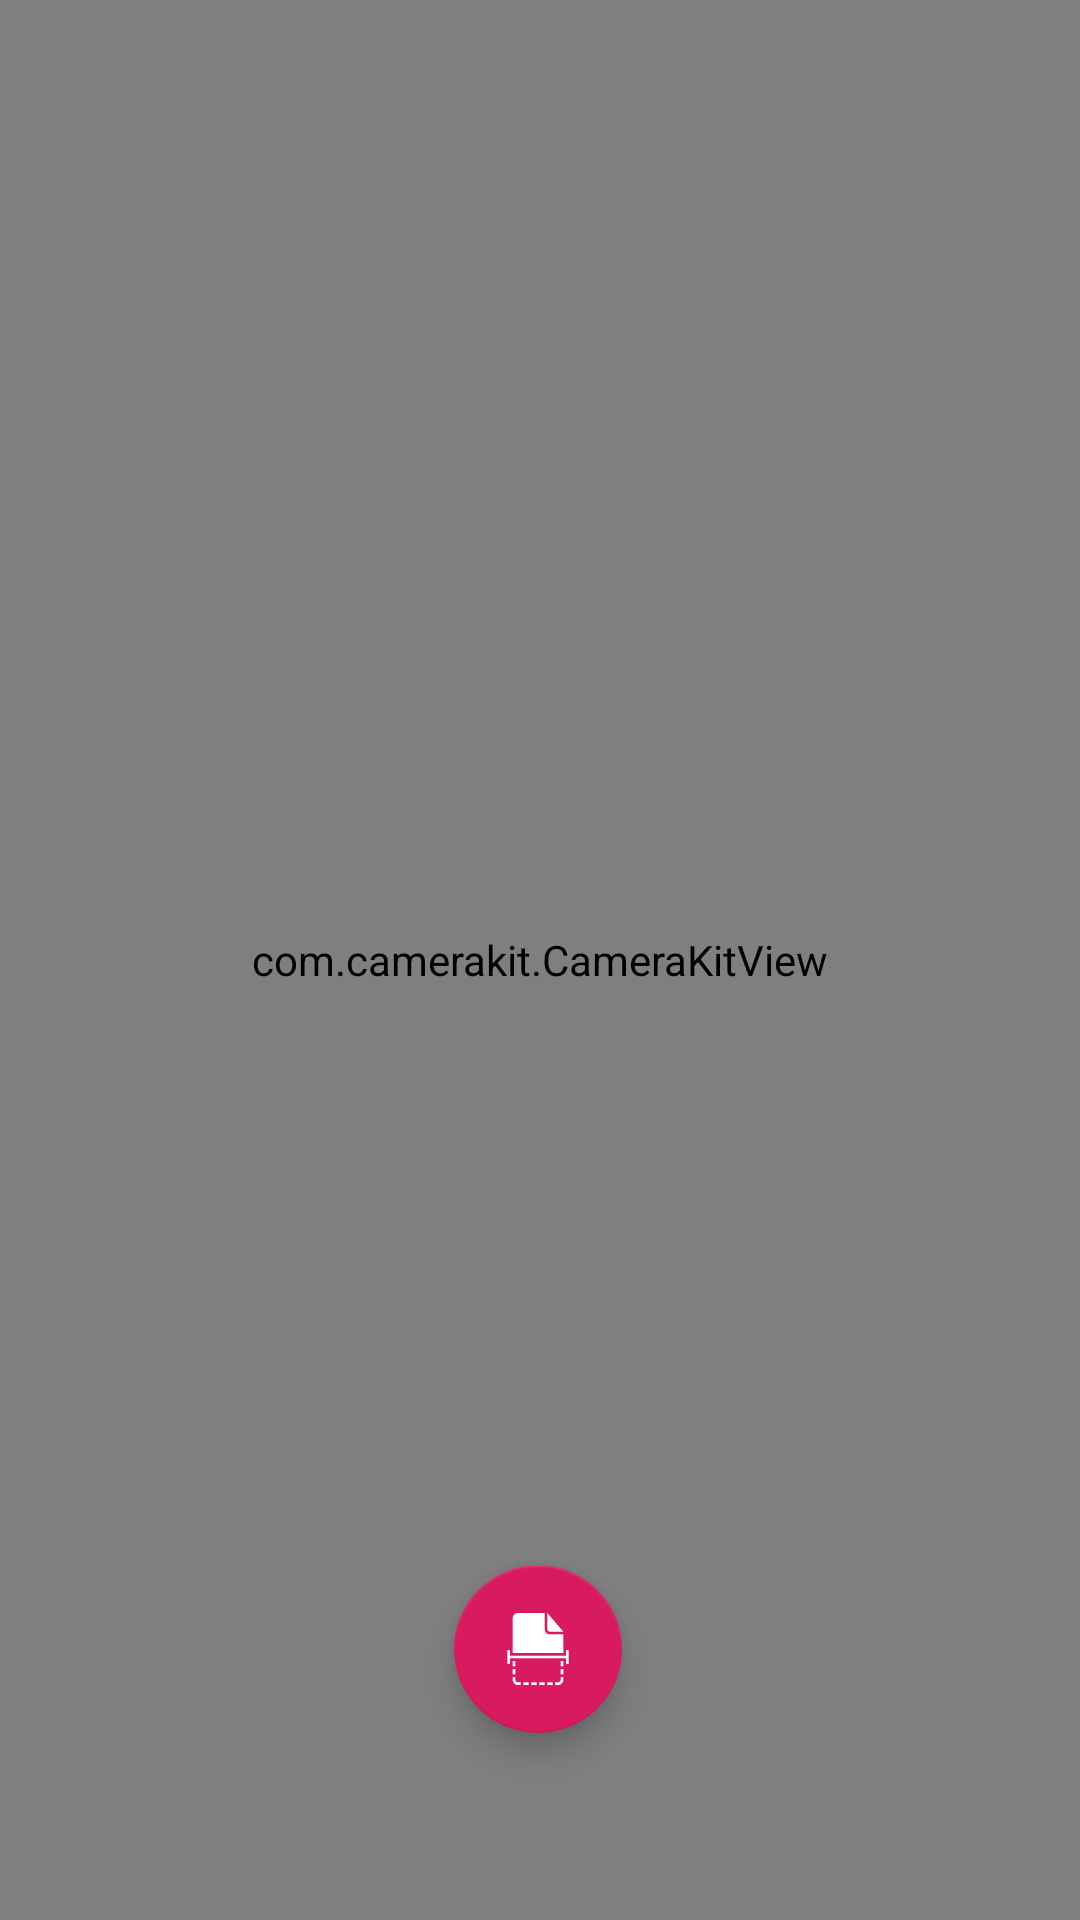

Named icons in this screenshot (1080×1920) and their bounding boxes, (x1, y1, x2, y2):
capture: (454, 1565, 622, 1733)
